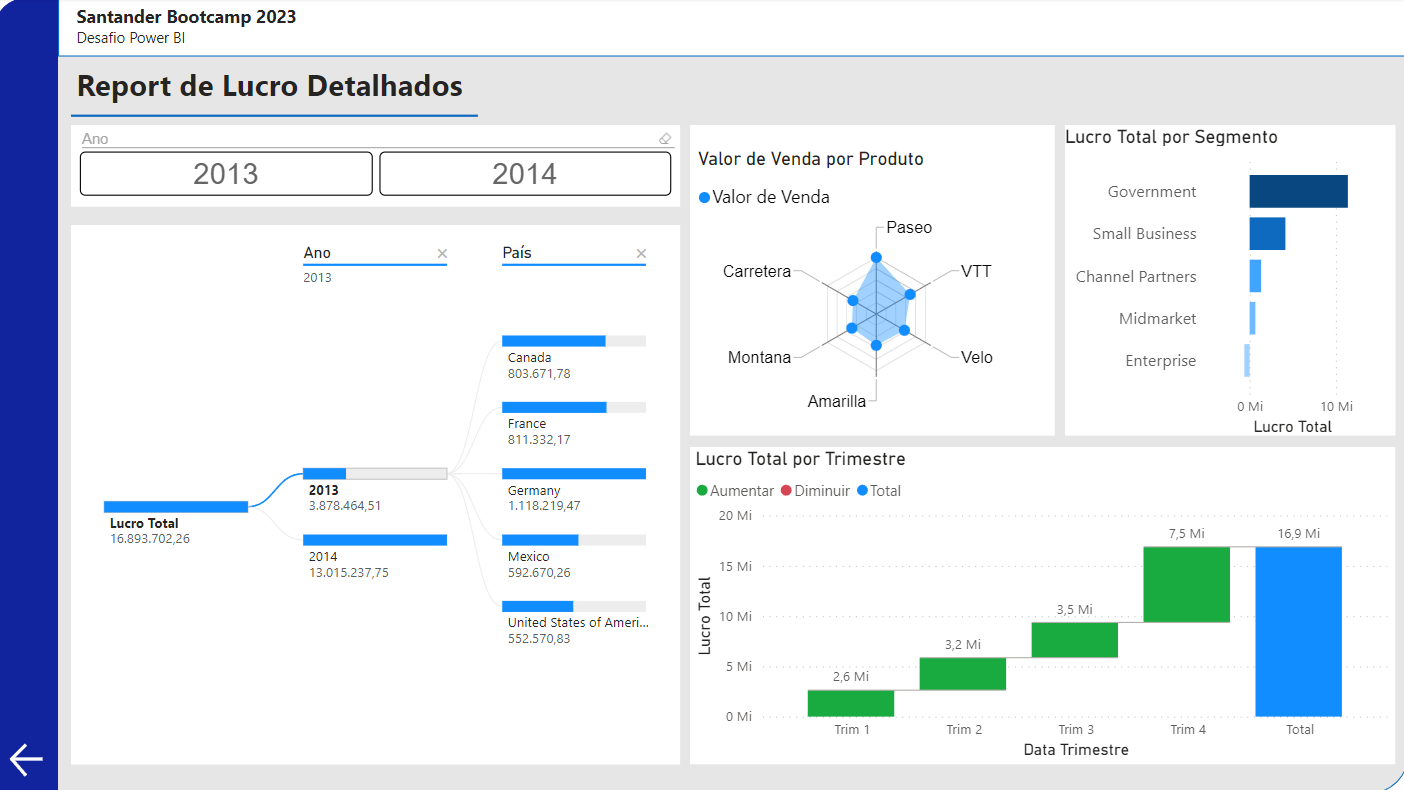

Layout of this report page (visuals, bound fields, positions):
{"tool":"powerbi","page":{"name":"Página 2","canvas":[1280,720],"ordinal":1},"visuals":[{"type":"shape","box":[0,0,1280,720.3],"z":0},{"type":"shape","box":[0,0,58.3,720.3],"z":1000},{"type":"shape","box":[57.5,0,1221.4,53],"z":2000},{"type":"textbox","box":[70,1,384.9,50.5],"z":3000},{"type":"shape","box":[69.7,75.9,368.1,60.9],"z":4000},{"type":"textbox","box":[69.7,53.8,368.1,48.6],"z":5000},{"type":"actionButton","box":[10.3,669.1,46.7,39.9],"z":6000},{"type":"ChicletSlicer1448559807354","fields":{"Category":["financials.Date.Variation.Hierarquia de datas.Ano"]},"box":[69.7,115.3,550.9,73.7],"z":7000},{"type":"RadarChart1446119667547","fields":{"Y":["Sum(financials.Sale Price)"],"Category":["financials.Product"]},"box":[629.9,115.3,329.7,281.5],"z":8000},{"type":"barChart","fields":{"Category":["financials.Segment"],"Y":["Sum(financials.Profit)"]},"box":[969,115.3,298.9,281.5],"z":9000},{"type":"waterfallChart","fields":{"Y":["Sum(financials.Profit)"],"Category":["financials.Data.Variation.Hierarquia de datas.Trimestre"]},"box":[629.9,406.1,638,286.8],"z":10000},{"type":"decompositionTreeVisual","fields":{"Analyze":["Sum(financials.Profit)"],"ExplainBy":["financials.Date.Variation.Hierarquia de datas.Ano","financials.Country"]},"box":[69.7,205.1,550.9,487.9],"z":11000}]}

Visuals, with their boxes on the page's 1280x720 design canvas (x1, y1, x2, y2). These are canvas units, not pixel positions in the 1404x790 screenshot, which may show the page scaled, cropped or inside an application window:
shape: [0,0,1280,720]
shape: [0,0,58,720]
shape: [58,0,1279,53]
textbox: [70,1,455,52]
shape: [70,76,438,137]
textbox: [70,54,438,102]
actionButton: [10,669,57,709]
ChicletSlicer1448559807354 - financials.Date.Variation.Hierarquia de datas.Ano: [70,115,621,189]
RadarChart1446119667547 - Sum(financials.Sale Price) x financials.Product: [630,115,960,397]
barChart - financials.Segment x Sum(financials.Profit): [969,115,1268,397]
waterfallChart - Sum(financials.Profit) x financials.Data.Variation.Hierarquia de datas.Trimestre: [630,406,1268,693]
decompositionTreeVisual - Sum(financials.Profit) x financials.Date.Variation.Hierarquia de datas.Ano: [70,205,621,693]
